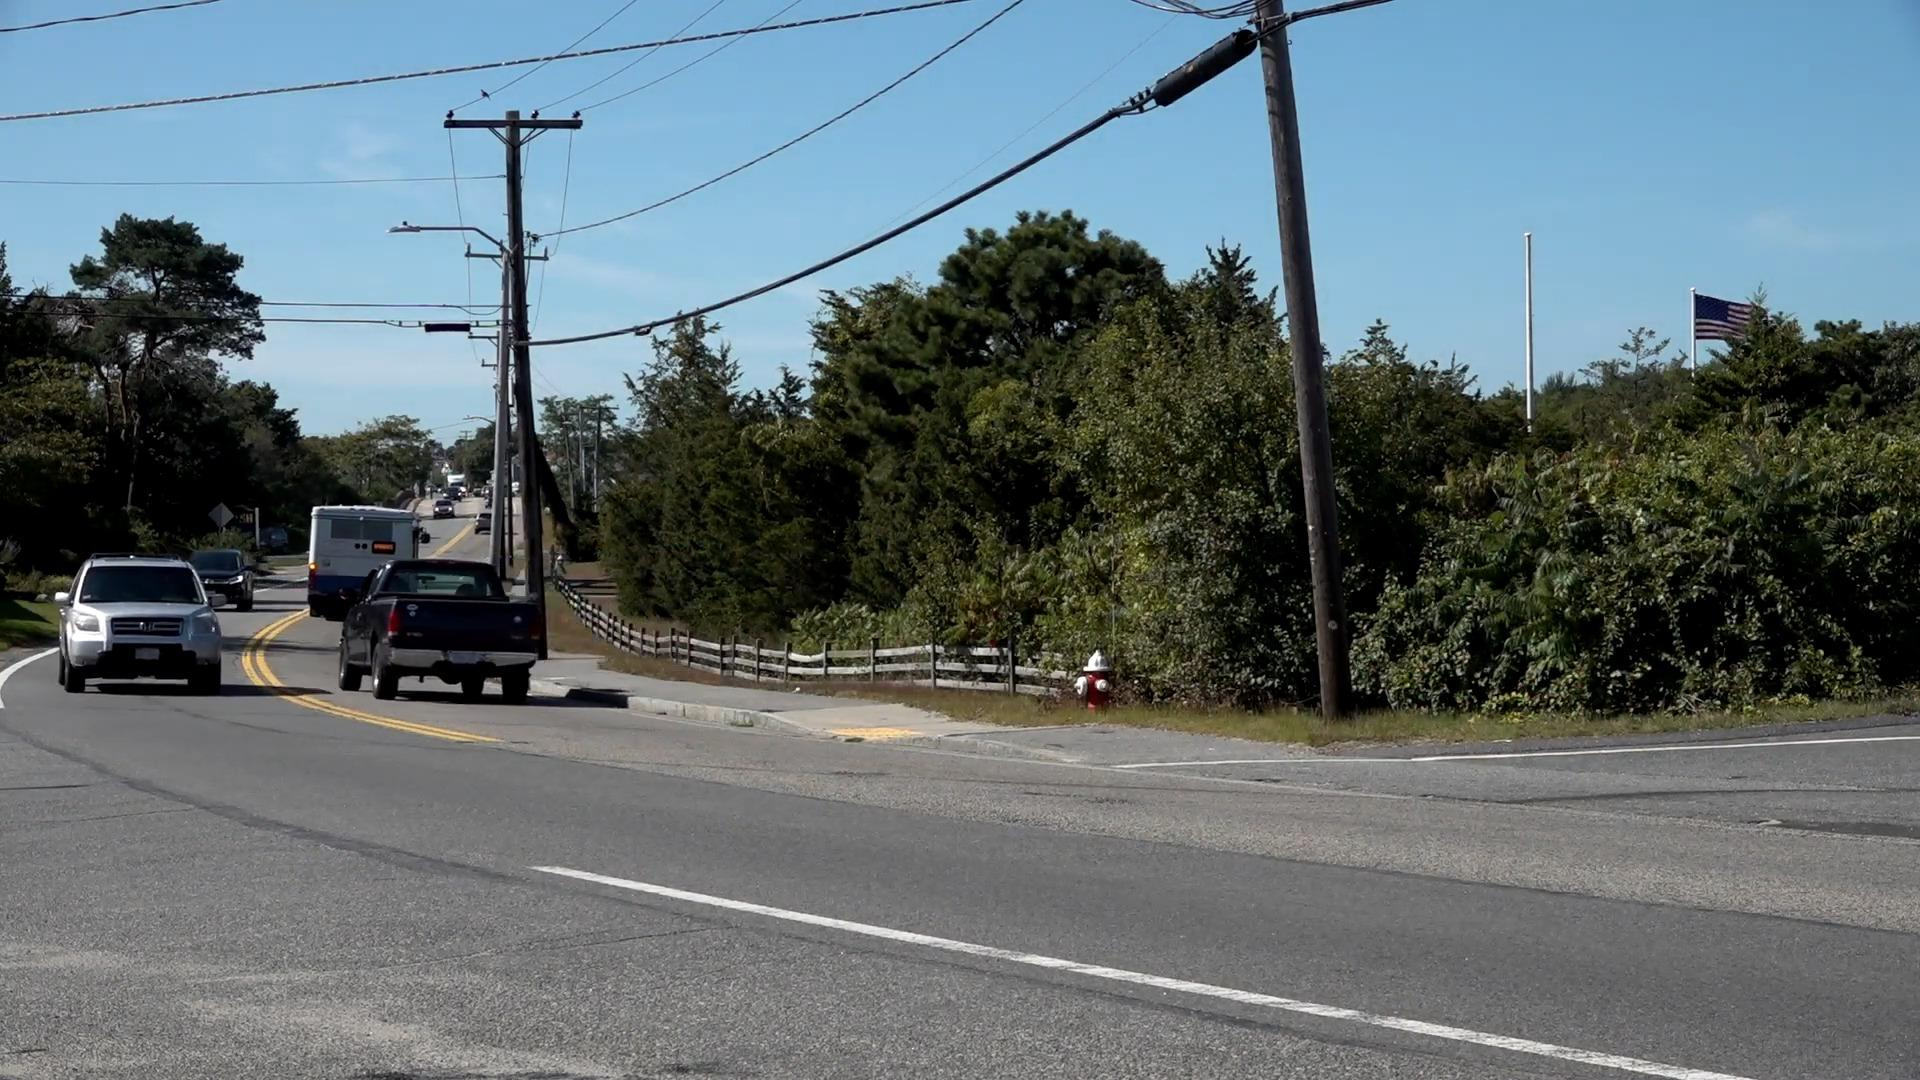pickup: (341, 559, 544, 703)
suv: (64, 560, 223, 691)
